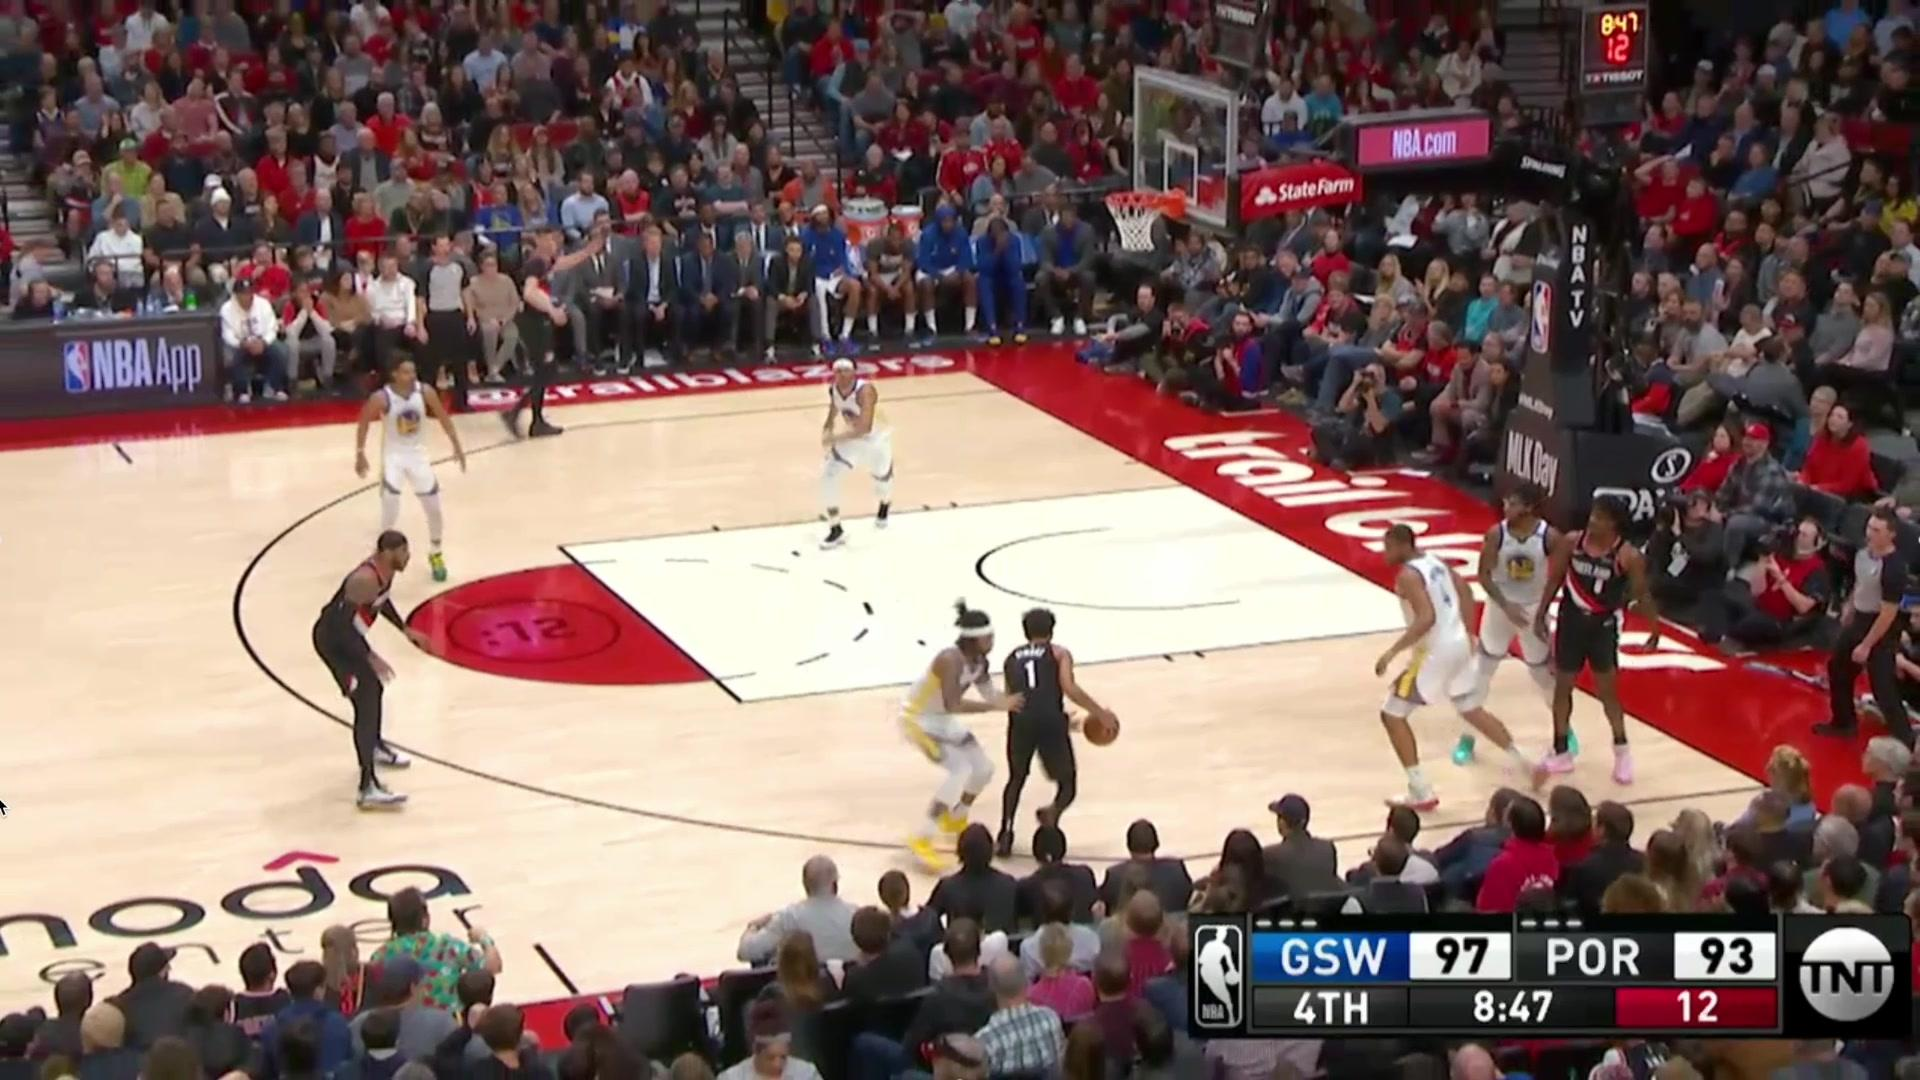no_foul: (902, 591, 1092, 790)
